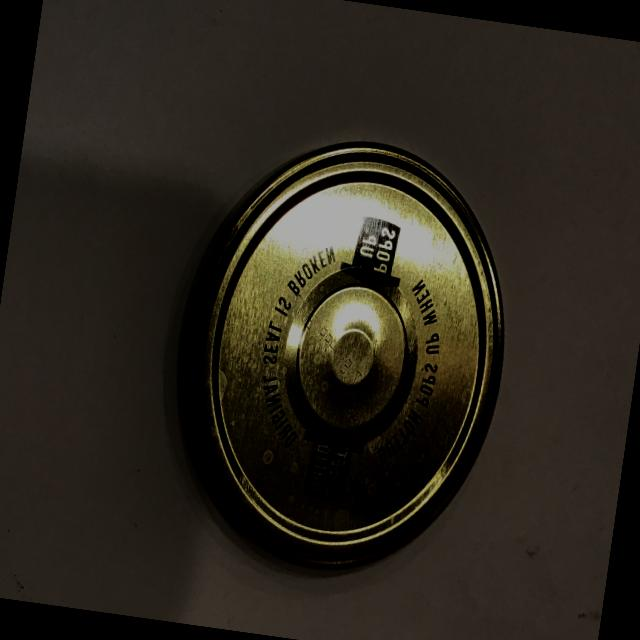Metal: (136, 64, 553, 606)
